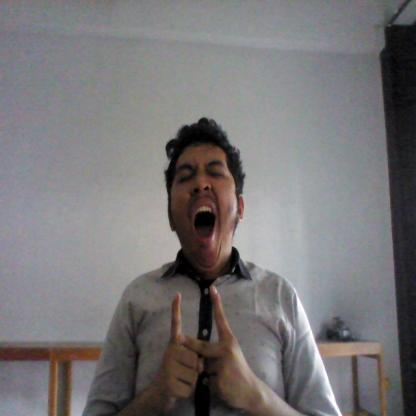H: (161, 283, 247, 411)
